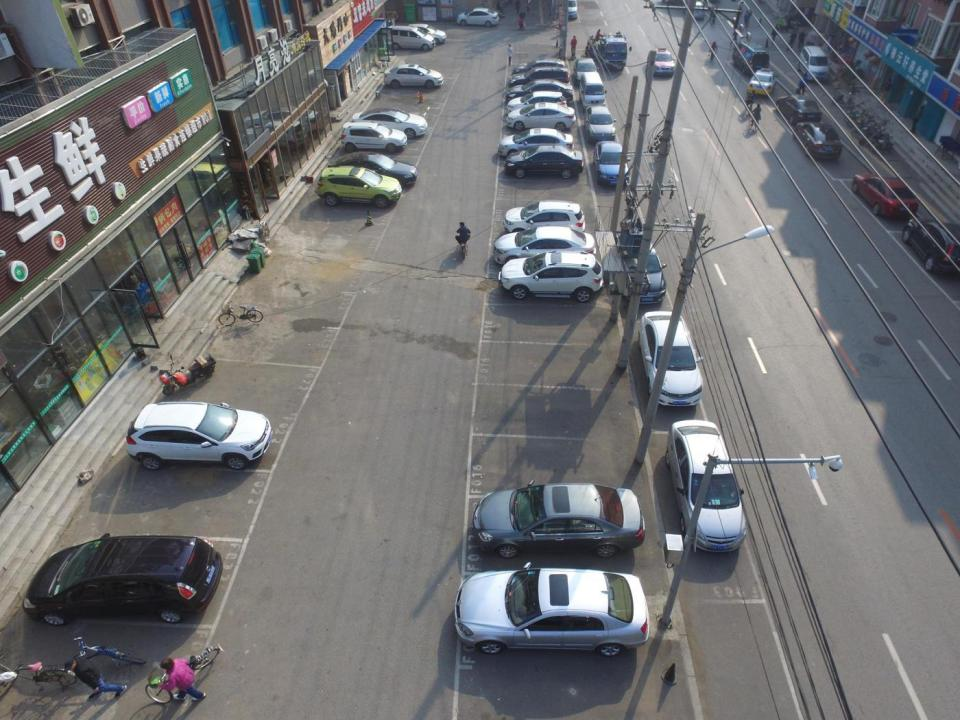car: (22, 533, 223, 627), (455, 562, 651, 658), (473, 479, 646, 559), (665, 419, 745, 554), (126, 400, 272, 470), (638, 310, 704, 405), (498, 250, 604, 303), (492, 226, 596, 268), (613, 230, 666, 303), (315, 165, 402, 207), (902, 218, 960, 276), (328, 150, 420, 186), (852, 172, 918, 220), (504, 199, 586, 236), (504, 143, 584, 180), (352, 107, 428, 139), (498, 127, 573, 158), (340, 121, 407, 154), (506, 102, 577, 132), (794, 122, 842, 162), (507, 78, 574, 105), (593, 140, 630, 187), (507, 89, 567, 116), (383, 64, 444, 89), (508, 65, 569, 90), (776, 94, 822, 125), (512, 58, 568, 83), (583, 104, 616, 144), (747, 67, 779, 97), (406, 23, 446, 45), (456, 7, 500, 27), (647, 47, 677, 76), (574, 56, 597, 87), (682, 1, 706, 21), (560, 0, 578, 19)
truck: (589, 30, 632, 69)
van: (797, 45, 832, 82), (385, 26, 436, 51), (732, 41, 768, 76), (578, 70, 608, 110)
